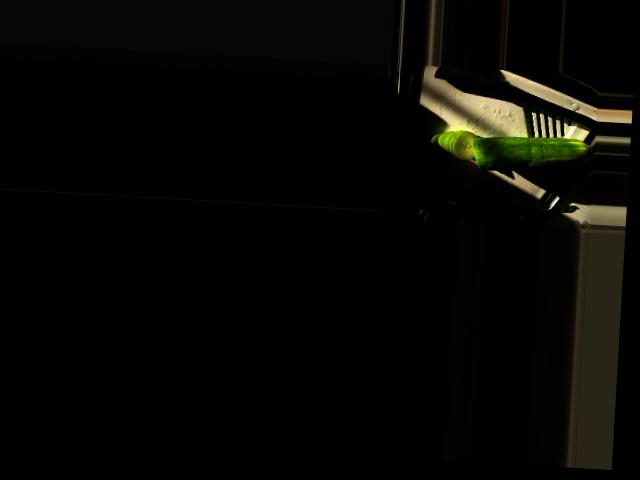cucumber: (470, 132, 592, 175)
